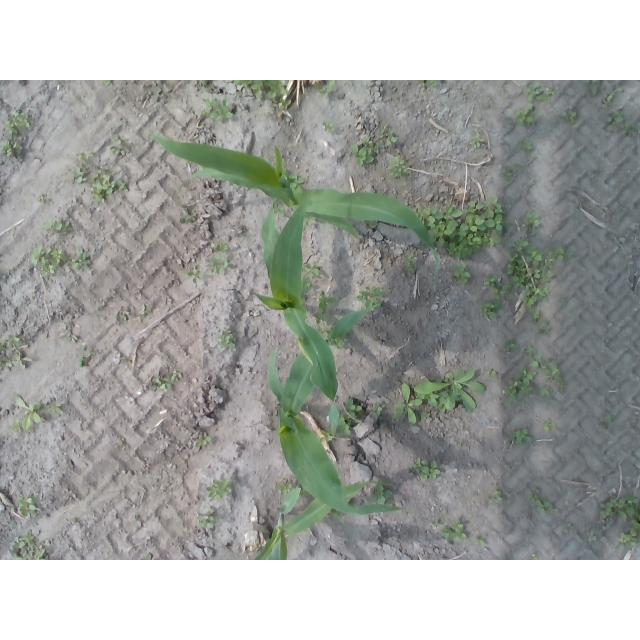Maize: (149, 129, 447, 285), (265, 305, 408, 526), (251, 191, 337, 441), (256, 484, 373, 561)
Weeds: (413, 195, 510, 261), (504, 238, 564, 310), (414, 367, 485, 413), (526, 346, 566, 396), (88, 167, 129, 202), (503, 367, 537, 408), (8, 393, 41, 435), (392, 382, 423, 424), (29, 244, 67, 276), (598, 494, 640, 522), (233, 80, 288, 100), (9, 532, 47, 560), (350, 138, 380, 166), (484, 273, 513, 301), (201, 97, 234, 121), (356, 285, 385, 311), (313, 290, 335, 324), (5, 110, 32, 137), (315, 327, 348, 349), (525, 83, 556, 105), (412, 458, 441, 481), (441, 520, 467, 545), (207, 477, 234, 501), (619, 519, 640, 549), (387, 155, 411, 181), (514, 102, 538, 126), (8, 334, 25, 367), (370, 483, 393, 506), (208, 254, 233, 275), (153, 373, 180, 392), (377, 124, 399, 147), (480, 299, 504, 320), (17, 496, 40, 517), (602, 87, 623, 110), (0, 139, 24, 158), (109, 132, 128, 156), (507, 428, 533, 445), (72, 248, 92, 270), (345, 398, 364, 421), (198, 508, 219, 528), (453, 263, 472, 285), (41, 220, 73, 233), (217, 328, 236, 349), (285, 172, 304, 193), (313, 80, 335, 98), (535, 498, 558, 514), (336, 415, 353, 436), (605, 109, 623, 128), (186, 264, 203, 284), (276, 477, 294, 495), (523, 212, 542, 229), (300, 263, 320, 278), (582, 80, 600, 96), (561, 109, 578, 125), (502, 165, 519, 181), (537, 319, 553, 336), (404, 255, 418, 274), (178, 208, 195, 223), (73, 167, 88, 184), (77, 345, 88, 368), (77, 149, 95, 163), (272, 99, 293, 110), (527, 486, 541, 502), (620, 122, 636, 136), (502, 340, 519, 352), (296, 489, 310, 503), (517, 140, 533, 152), (300, 276, 312, 292), (47, 403, 64, 414), (196, 437, 213, 448), (471, 136, 485, 149), (199, 80, 213, 93), (272, 203, 285, 217), (491, 491, 505, 504), (542, 419, 556, 432), (0, 356, 12, 371), (319, 430, 333, 442), (373, 401, 384, 416), (474, 536, 487, 548), (323, 122, 337, 133), (212, 242, 229, 251), (64, 333, 78, 343), (486, 369, 498, 380), (419, 81, 437, 88), (532, 309, 541, 323), (365, 218, 377, 228), (605, 415, 614, 425), (421, 412, 430, 421), (0, 341, 6, 352), (304, 220, 312, 228), (120, 315, 128, 323), (431, 519, 438, 528), (102, 80, 111, 86), (529, 556, 539, 561), (566, 521, 573, 528), (588, 536, 596, 541)
